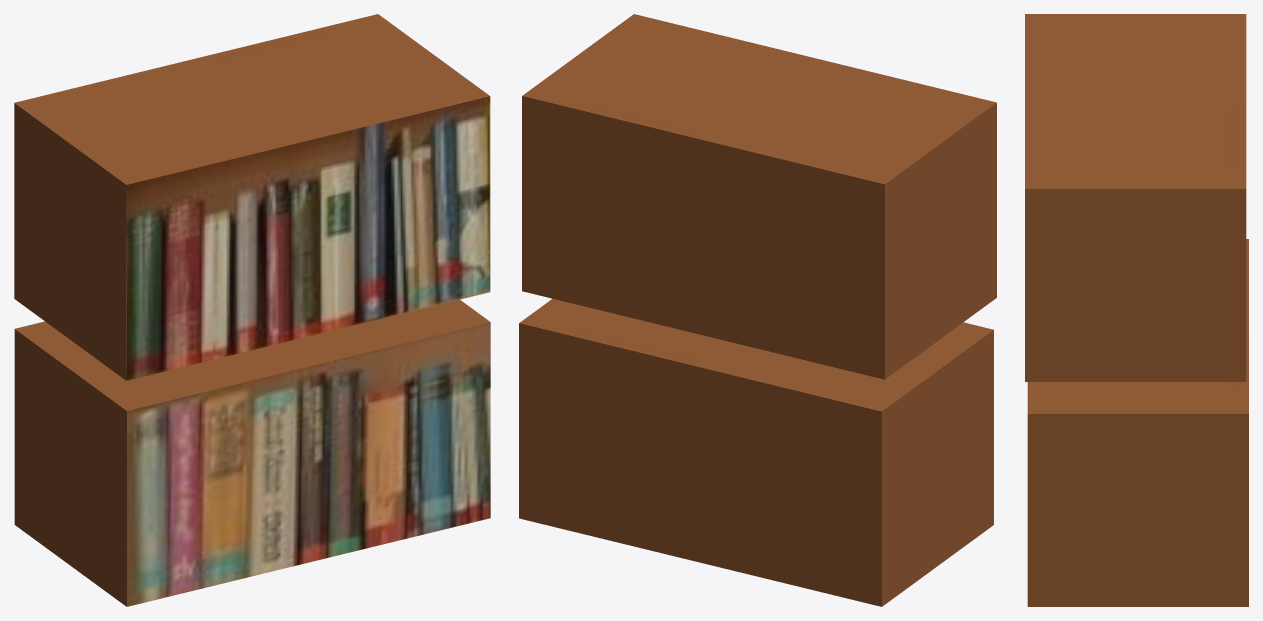
The model's file is books.fbx.
The picture shows the model from 3 angles, left to right: view 1: azimuth 30°, elevation 25°; view 2: azimuth 150°, elevation 25°; view 3: azimuth 270°, elevation 25°; orthographic projection.
Parts seen in each view (by area): view 1: books1, books1.001; view 2: books1, books1.001; view 3: books1, books1.001.
Boxes of the visible parts, bbox=[...] form: books1: bbox=[14, 14, 490, 380]; books1.001: bbox=[14, 299, 490, 606]; books1: bbox=[522, 14, 996, 379]; books1.001: bbox=[519, 298, 993, 606]; books1: bbox=[1025, 14, 1246, 381]; books1.001: bbox=[1027, 239, 1248, 606].
Size of the model in its own units: 246 by 272 by 132.
